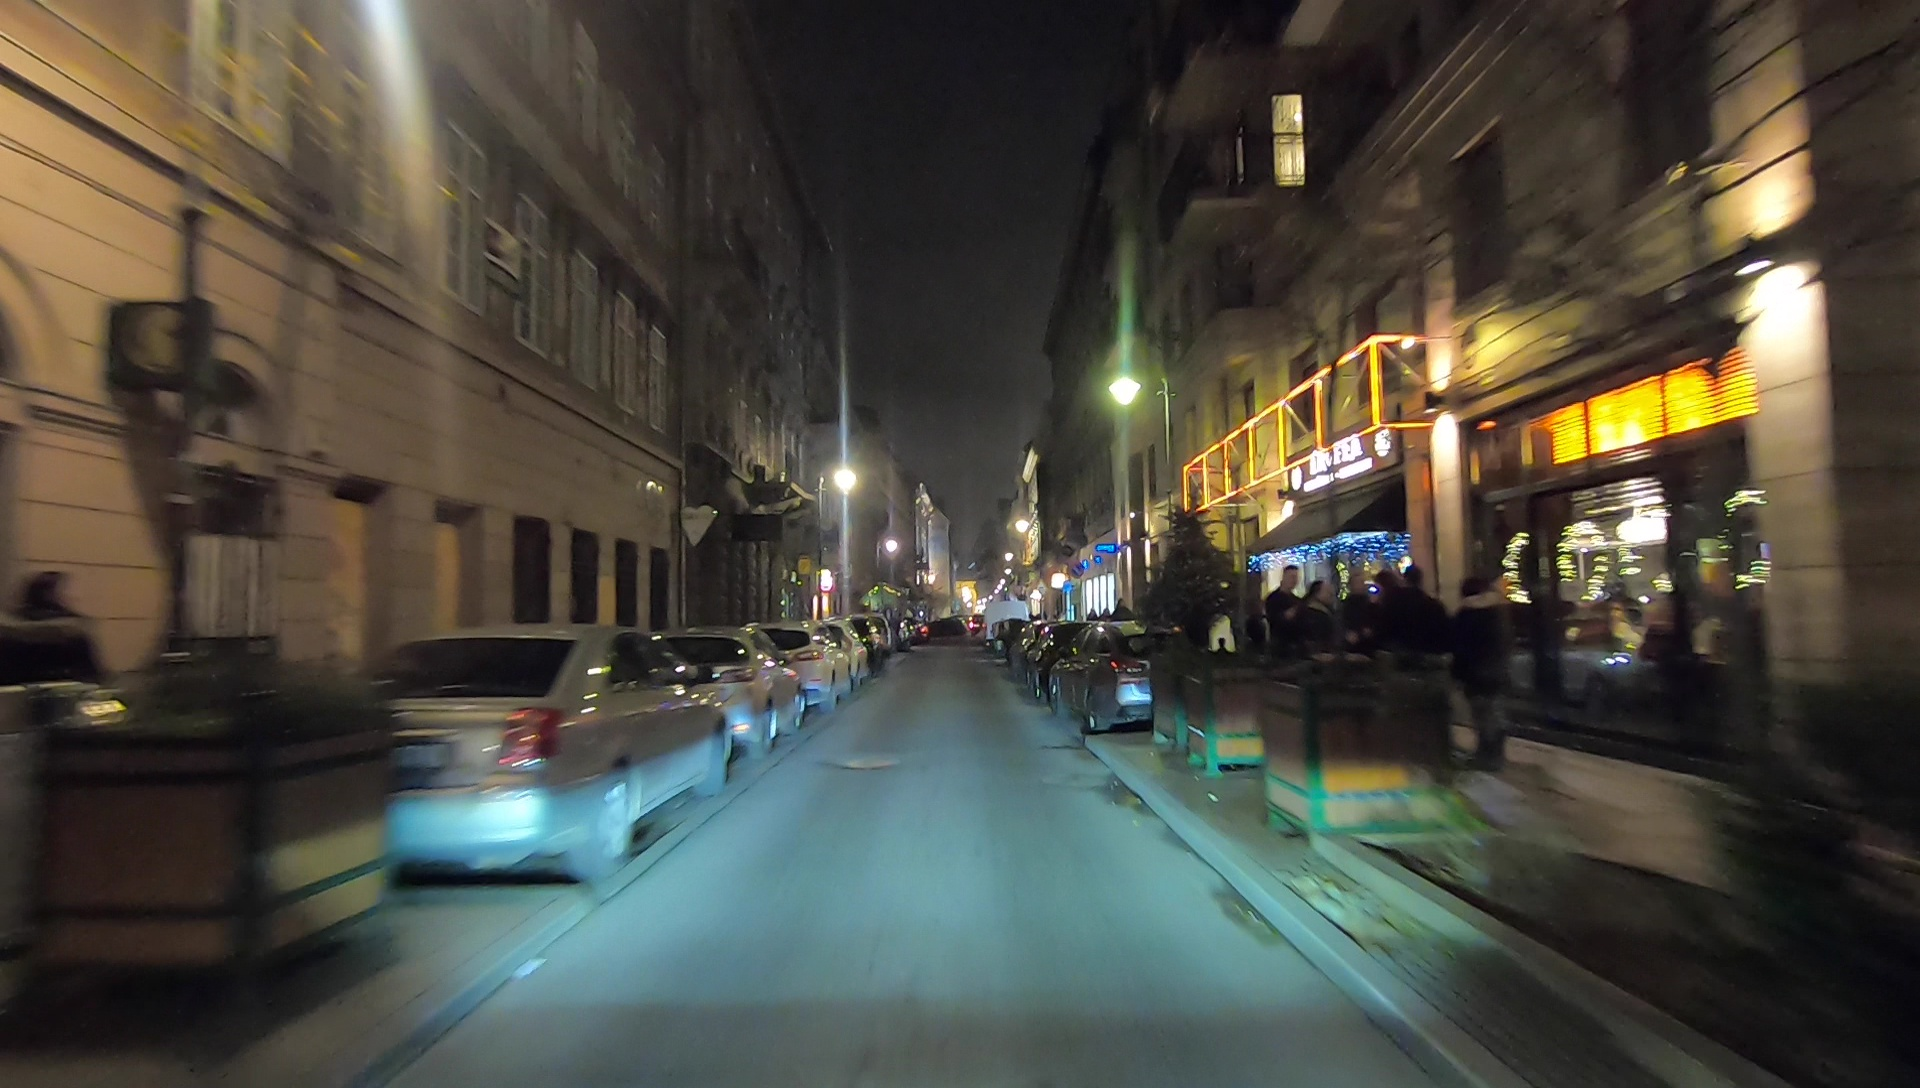person: (1, 565, 108, 834), (1452, 574, 1526, 776), (1397, 561, 1449, 705), (1268, 562, 1309, 705), (1303, 576, 1336, 685), (1347, 575, 1372, 701), (1375, 569, 1397, 719)
